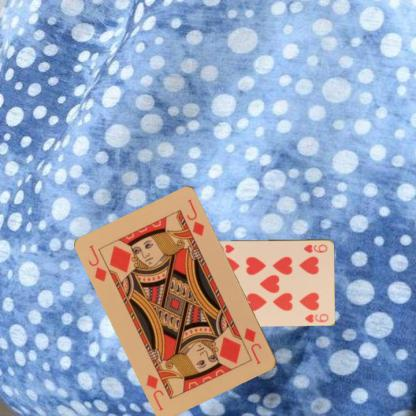9h: (301, 242, 329, 254)
Jd: (86, 242, 109, 283), (241, 325, 263, 366)
